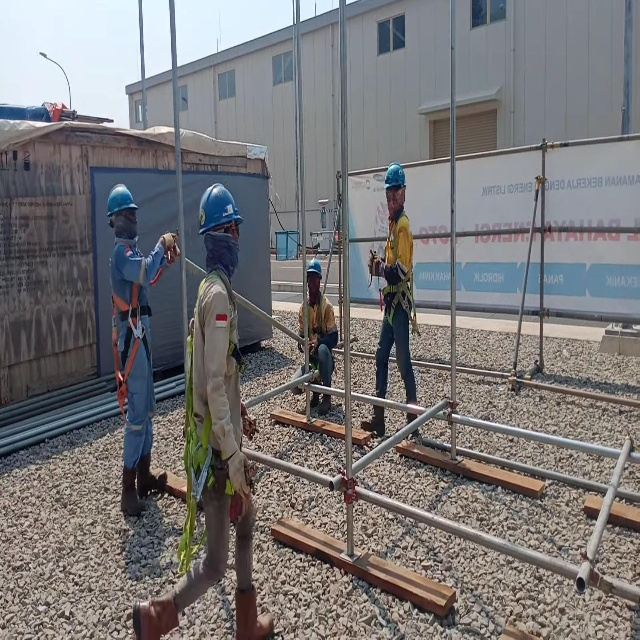Arnes_seguridad: (175, 272, 244, 566), (108, 242, 149, 419), (380, 214, 422, 342), (302, 290, 338, 391)
